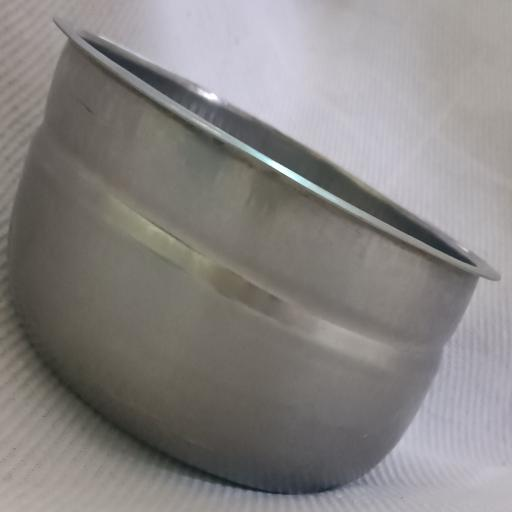vessel: (8, 20, 499, 493)
